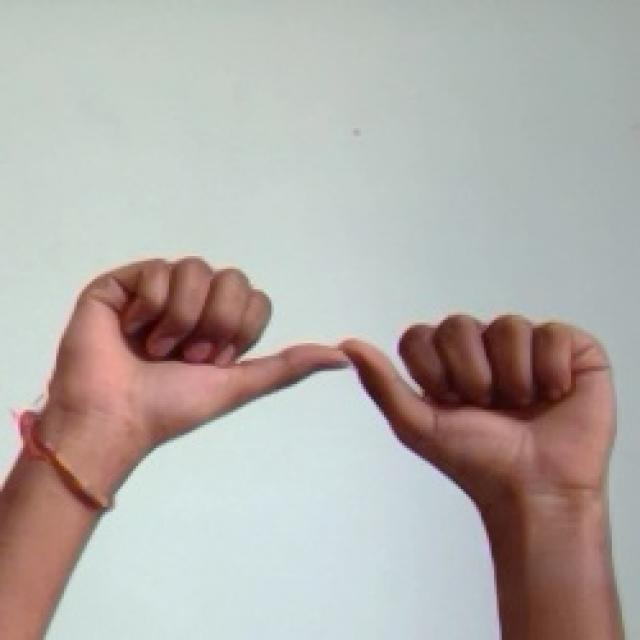Alphabet-A: (35, 252, 621, 478)
